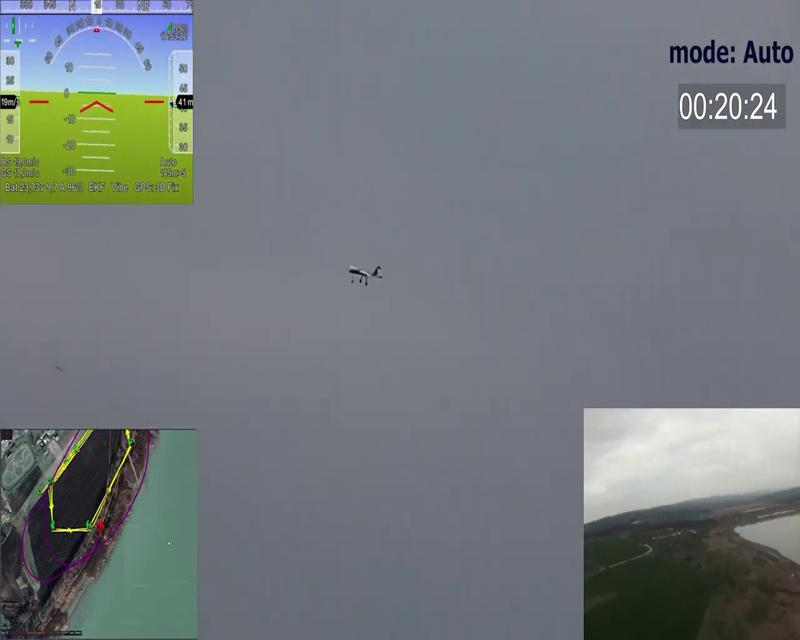UAV: (347, 264, 384, 286)
